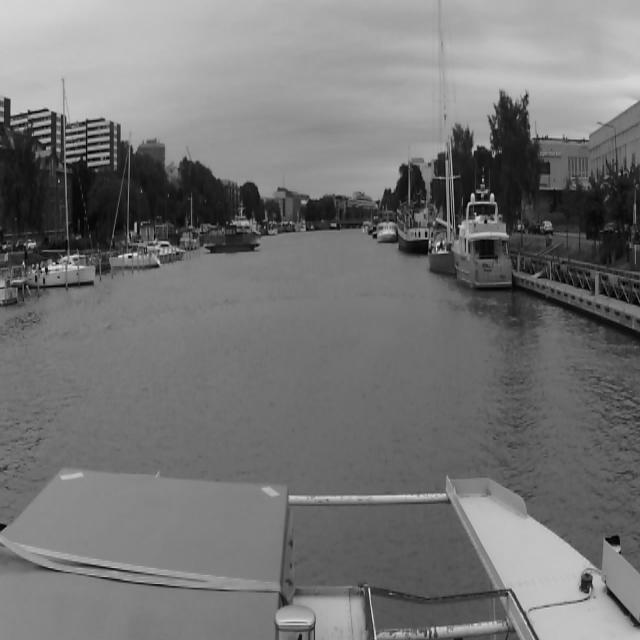ship: (33, 72, 99, 292), (427, 0, 455, 279), (108, 129, 162, 272), (454, 180, 512, 298), (391, 193, 441, 261), (201, 222, 259, 257), (376, 214, 392, 243)
